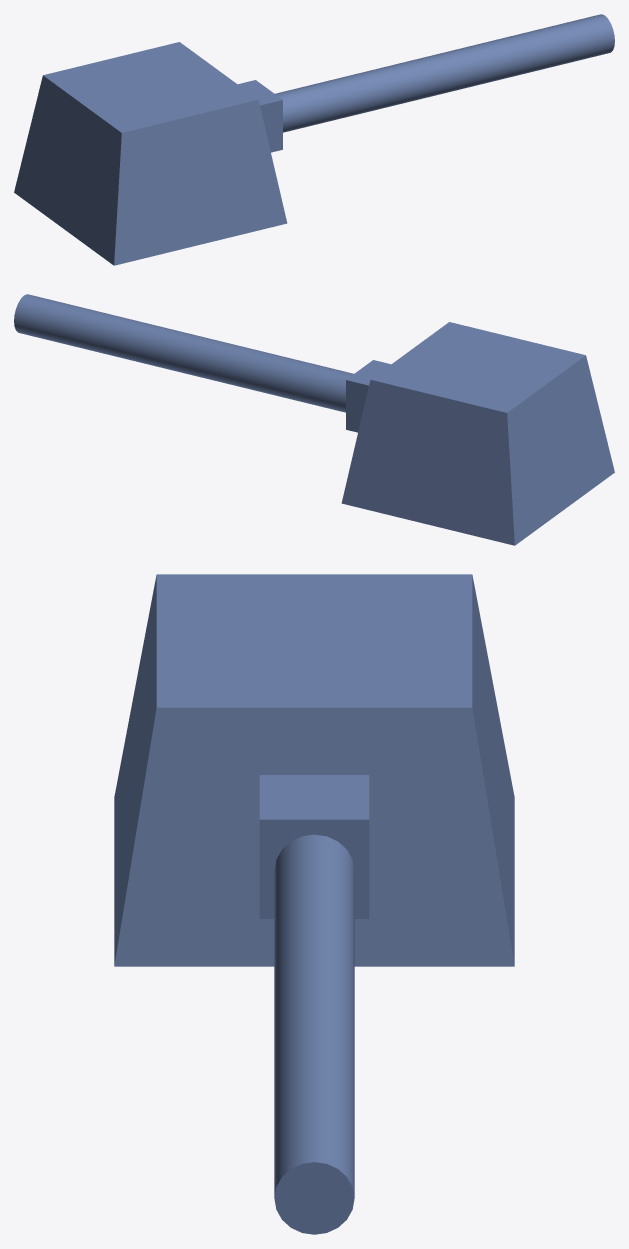
The model's file is tank_turret.fbx.
3 views of the same model, one above another, from view 1: azimuth 30°, elevation 25°; view 2: azimuth 150°, elevation 25°; view 3: azimuth 270°, elevation 25° (orthographic). The views are drawn at different scales.
Parts seen in each view (by area): view 1: pCube1, pCylinder1, pCube2; view 2: pCube1, pCylinder1, pCube2; view 3: pCube1, pCylinder1, pCube2.
Part boxes in pixels (x1,y1,x2,y2): pCube1: [14, 42, 287, 265]; pCylinder1: [275, 14, 614, 132]; pCube2: [238, 80, 282, 152]; pCube1: [341, 322, 614, 545]; pCylinder1: [14, 294, 353, 412]; pCube2: [346, 360, 390, 432]; pCube1: [114, 574, 514, 966]; pCylinder1: [274, 834, 354, 1234]; pCube2: [259, 775, 369, 918].
Size of the model in its own units: 15.67 by 3.34 by 5.02.
